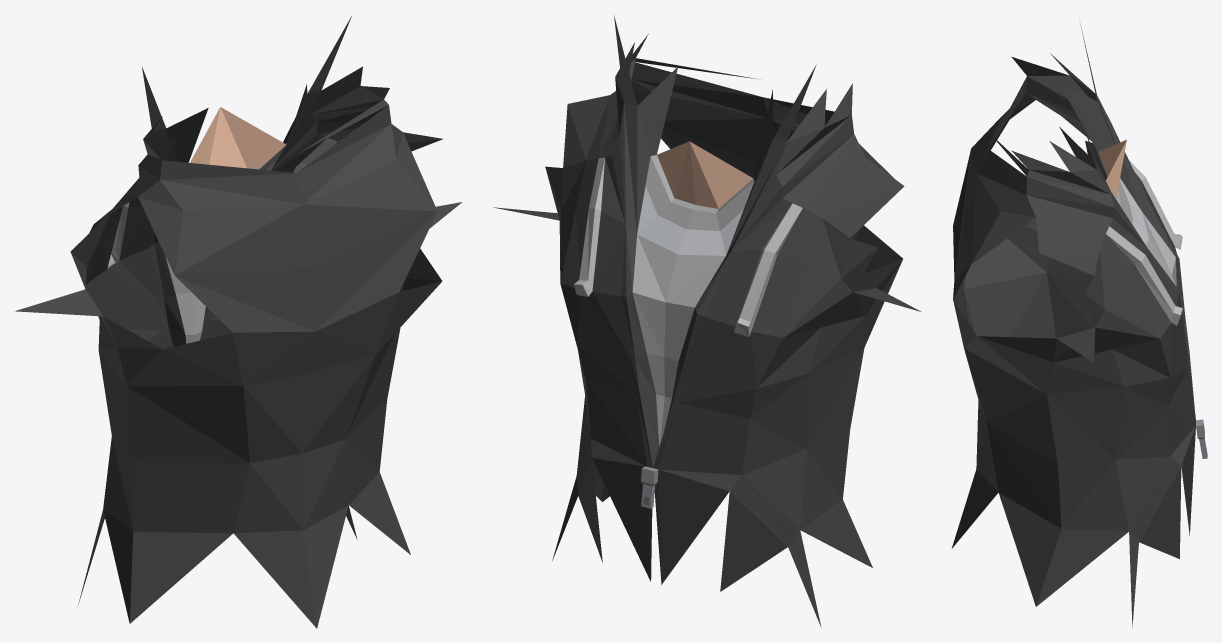
Rendered from Son_01_Torso_0_03_A.obj.
3 views of the same model, side by side, from view 1: azimuth 30°, elevation 25°; view 2: azimuth 150°, elevation 25°; view 3: azimuth 270°, elevation 25° (orthographic). The views are drawn at different scales.
Visible parts, largest first — view 1: Son_01_Torso_0_03_A; view 2: Son_01_Torso_0_03_A; view 3: Son_01_Torso_0_03_A.
Part boxes in pixels (x1,y1,x2,y2): Son_01_Torso_0_03_A: (15, 16, 462, 628); Son_01_Torso_0_03_A: (493, 15, 921, 627); Son_01_Torso_0_03_A: (951, 21, 1207, 627).
Size of the model in its own units: 0.5821 by 0.6905 by 0.3167.
Materials: 1 (1 with a texture image).
